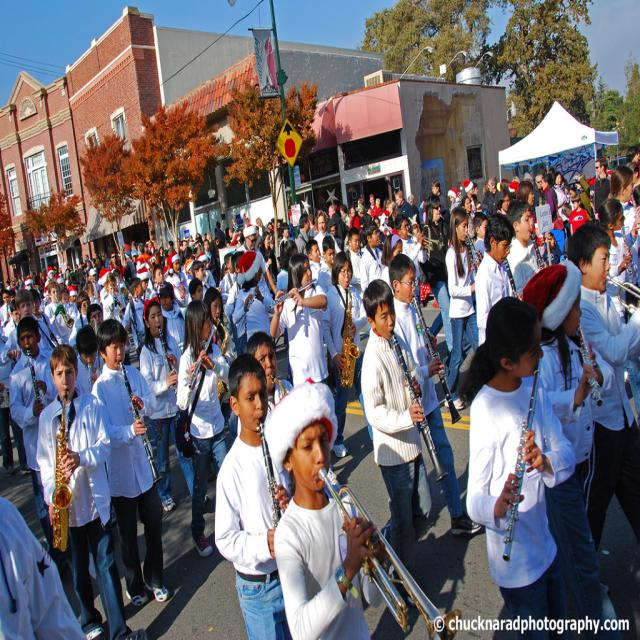clarinet: (390, 329, 450, 486), (413, 297, 462, 424), (117, 360, 164, 490), (254, 420, 283, 528), (156, 325, 178, 393), (26, 348, 46, 416), (501, 254, 521, 302), (466, 231, 484, 270), (530, 230, 546, 271)
